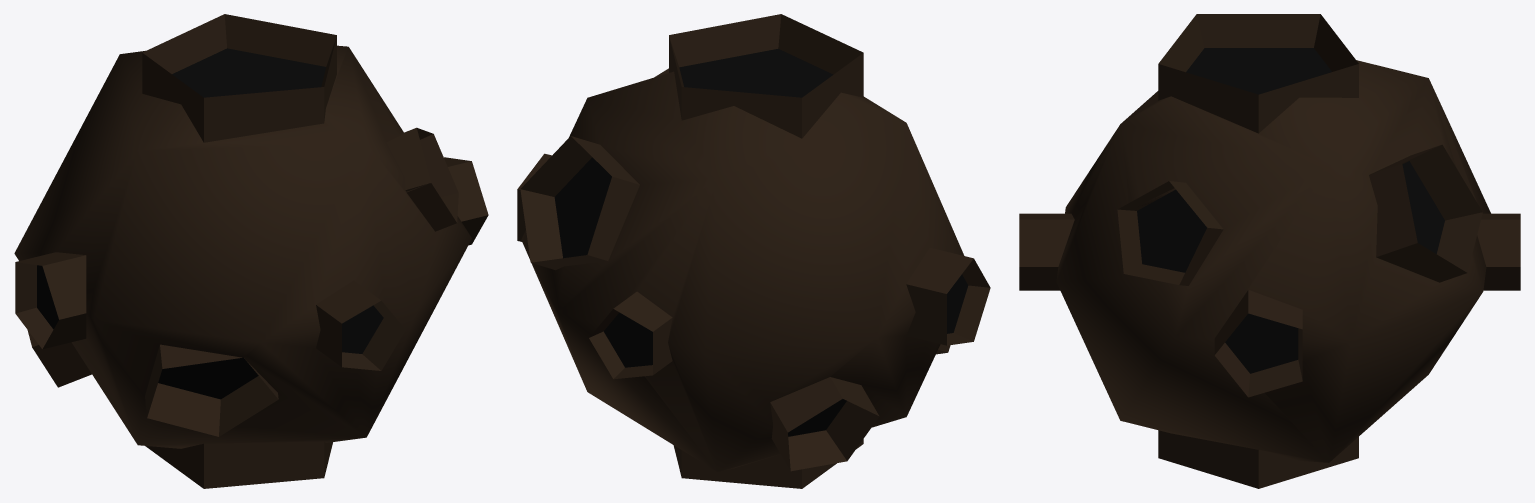
File: Asteroid.FBX
3 views of the same model, side by side, from view 1: azimuth 30°, elevation 25°; view 2: azimuth 150°, elevation 25°; view 3: azimuth 270°, elevation 25° (orthographic).
Parts seen in each view (by area): view 1: GeoSphere004; view 2: GeoSphere004; view 3: GeoSphere004.
Part boxes in pixels (left/top/right/bottom): GeoSphere004: left=14, top=14, right=488, bottom=488; GeoSphere004: left=517, top=14, right=990, bottom=488; GeoSphere004: left=1019, top=14, right=1520, bottom=488.
Size of the model in its own units: 66.2 by 57.63 by 66.42.
